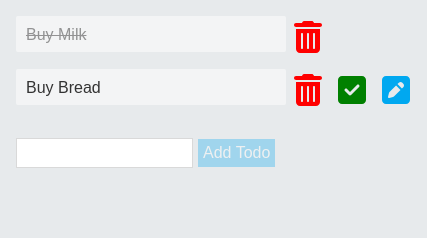
Test case: TodoApp › edit todo
Type "go to fitness center" into the field.
click(104, 153); type("go to fitness center")  # box x1=16 y1=138 x2=193 y2=168
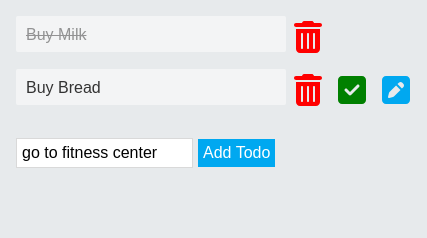
Click the button "Add Todo".
click(237, 153)  # box x1=198 y1=139 x2=275 y2=167
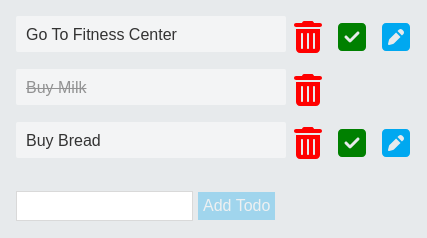
Result: the text "go to fitness center" is shown at x1=26 y1=26 x2=177 y2=42
Result: the picture with test id "edit0" is shown
Click the picture with test id "edit0".
click(396, 37)  # box x1=382 y1=21 x2=410 y2=53
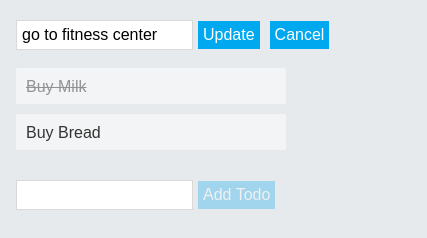
Result: the picture with test id "edit0" is gone
Replace the text in the 1st field with test id "editTodo" with "Do workout" at (104, 35), box x1=16 y1=20 x2=193 y2=50
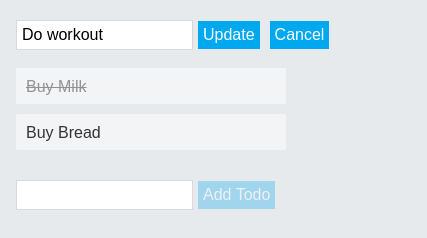
Click the button "Update".
click(229, 35)  # box x1=198 y1=21 x2=260 y2=49
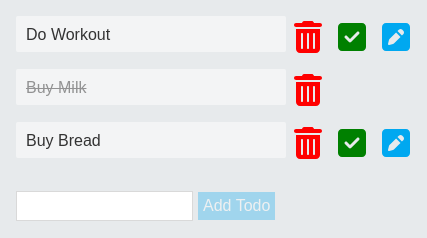
Expected: the text "go to fitness center" is not shown
Result: the text "Do workout" is shown at x1=26 y1=26 x2=110 y2=42
